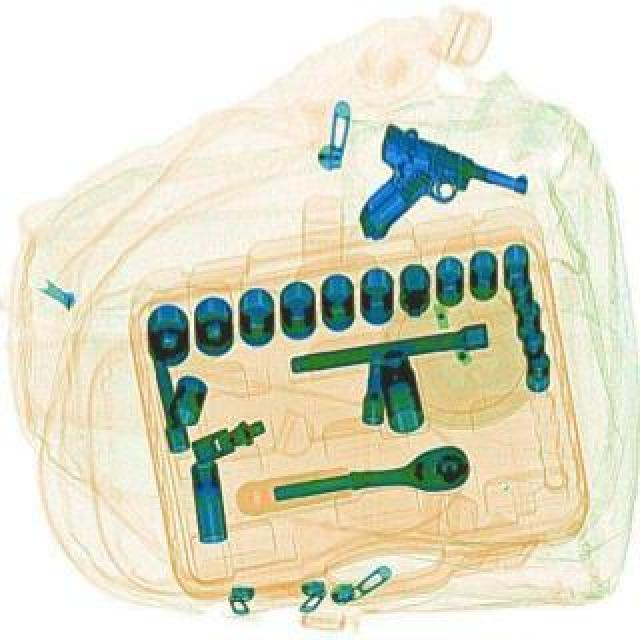gun: (340, 120, 532, 278)
